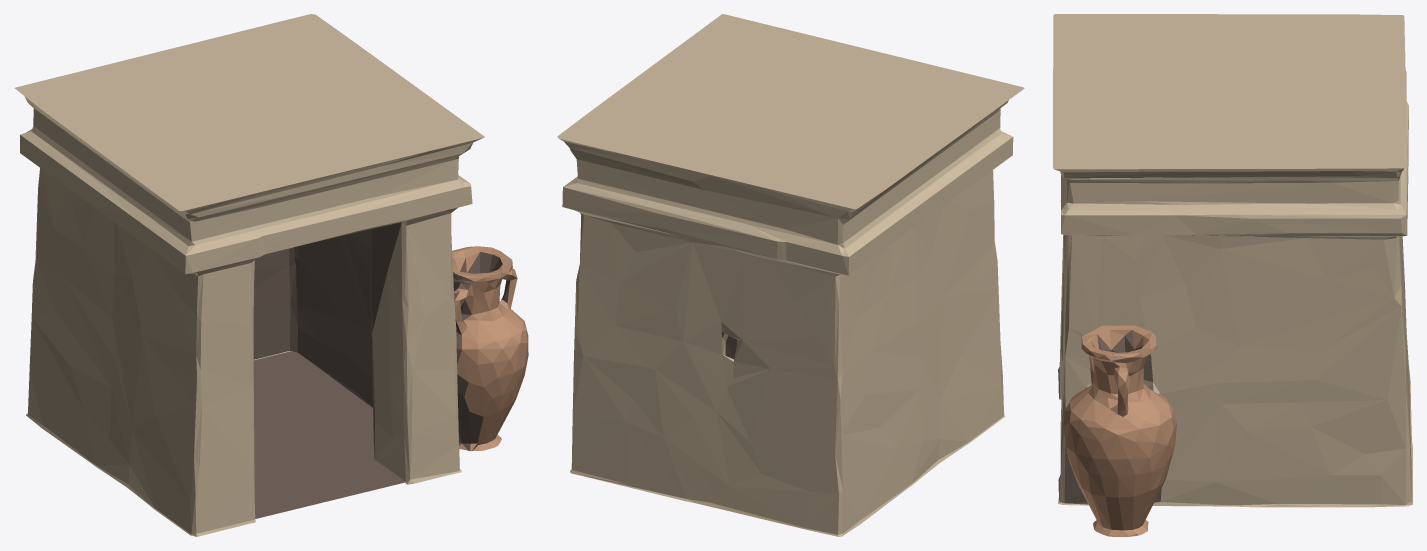
The model's file is etape-1.glb.
The picture shows the model from 3 angles, left to right: view 1: azimuth 30°, elevation 25°; view 2: azimuth 150°, elevation 25°; view 3: azimuth 270°, elevation 25°; orthographic projection. The views are drawn at different scales.
Visible parts, largest first — view 1: geometry_0; view 2: geometry_0; view 3: geometry_0.
Part boxes in pixels (x1,y1,x2,y2): geometry_0: (14,14,528,536); geometry_0: (557,14,1024,536); geometry_0: (1053,14,1412,536).
Size of the model in its own units: 0.8668 by 0.7373 by 0.6961.
